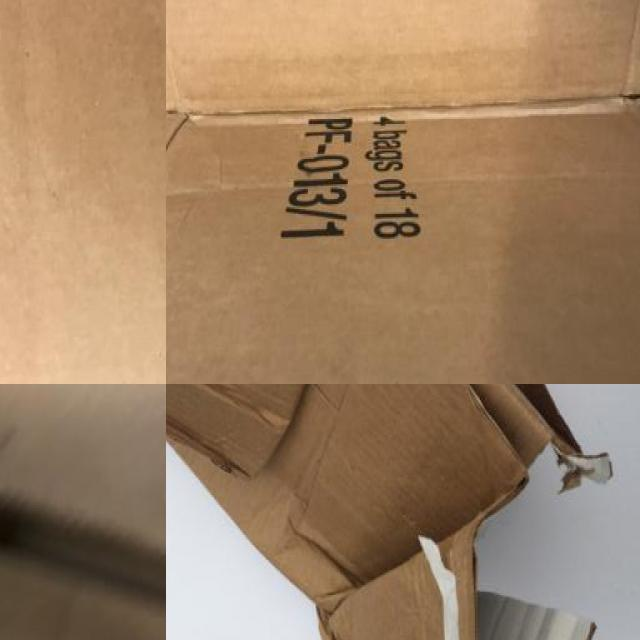class_name: (166, 0, 640, 384), (166, 384, 614, 640), (0, 0, 166, 384), (0, 384, 166, 640)
